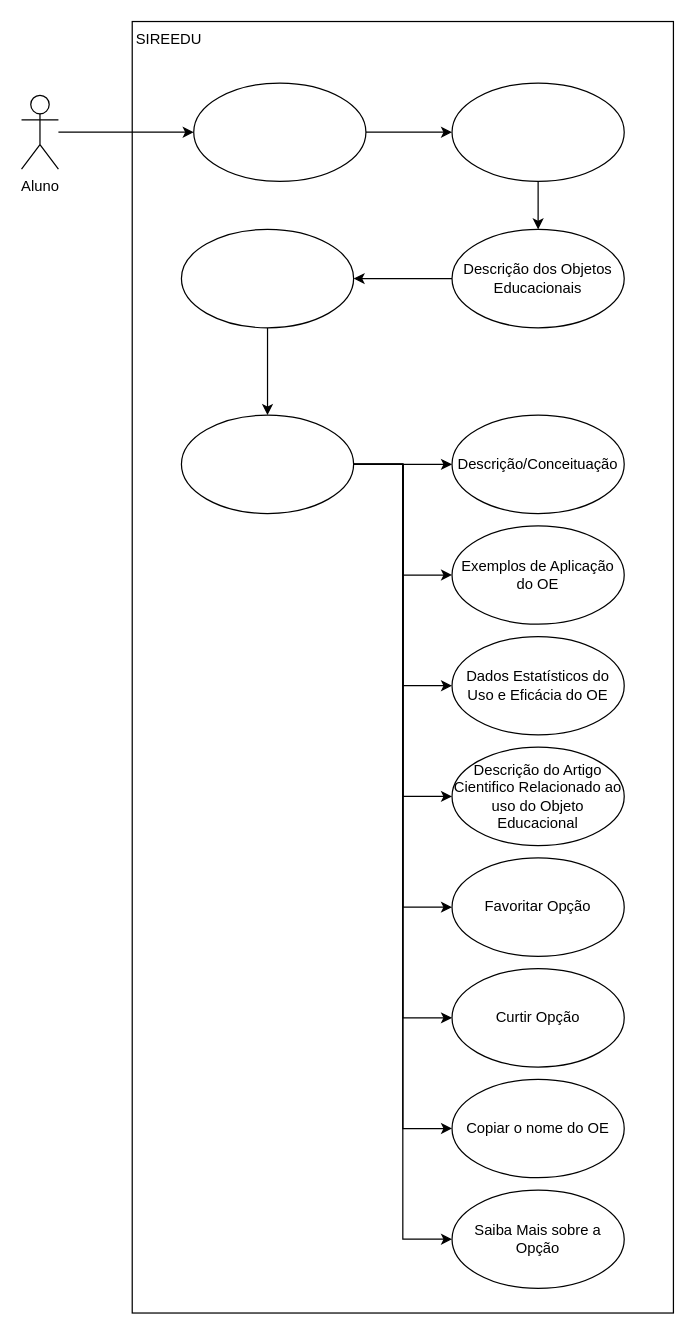
The diagram is 695 pixels wide and 1335 high, and some of its shapes have lost their labels. Each missing label, with the box of its shape:
Acessar a Página de Recomendação de Objetos Educacionais: (192, 82, 366, 181)
Classificação por Relevância das Recomendações com base nos Resultados: (180, 228, 354, 328)
Clicar em Visualizar o Objeto Educacional: (180, 414, 354, 514)
Visualizar as Recomendações: (451, 82, 624, 181)
